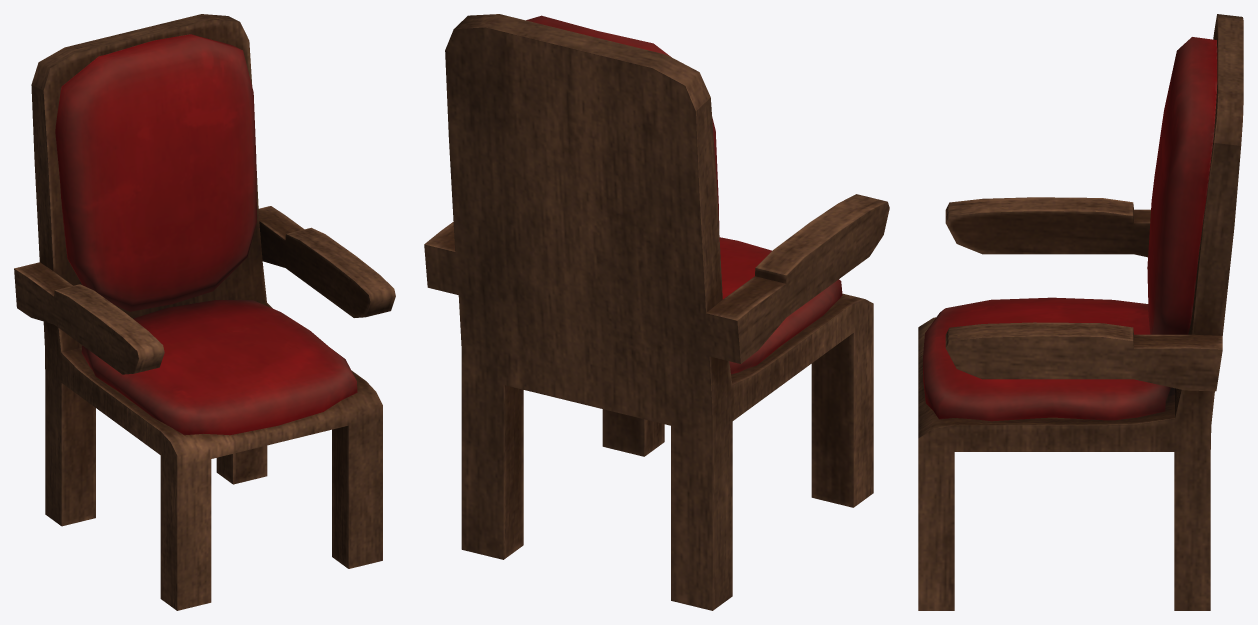
File: Office Chair.fbx
The picture shows the model from 3 angles, left to right: view 1: azimuth 30°, elevation 25°; view 2: azimuth 150°, elevation 25°; view 3: azimuth 270°, elevation 25°; orthographic projection. The views are drawn at different scales.
Visible parts, largest first — view 1: OfficeChair; view 2: OfficeChair; view 3: OfficeChair.
Boxes of the visible parts, x1,y1,x2,y2 form: OfficeChair: (14, 14, 395, 610); OfficeChair: (424, 14, 889, 610); OfficeChair: (918, 14, 1243, 610).
Bounding box in the file's own units: 57.09 × 56.53 × 95.6.
